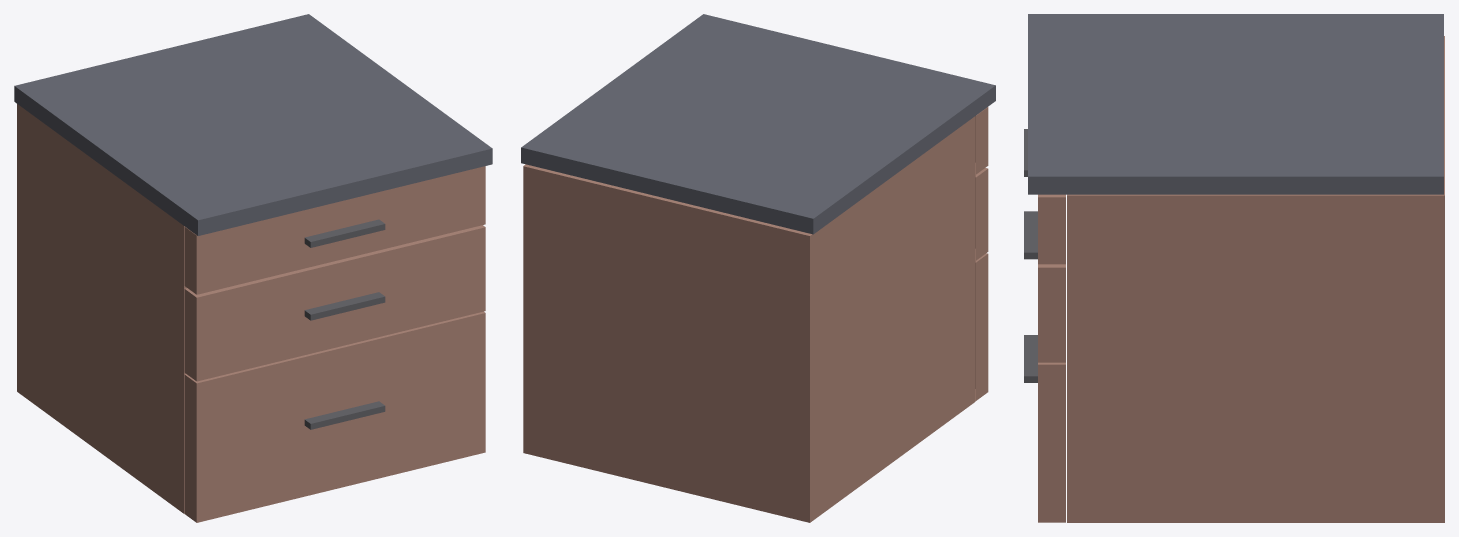
Rendered from Stoleshnica1.fbx.
3 views of the same model, side by side, from view 1: azimuth 30°, elevation 25°; view 2: azimuth 150°, elevation 25°; view 3: azimuth 270°, elevation 25° (orthographic). The views are drawn at different scales.
Visible parts, largest first — view 1: столешница1; view 2: столешница1; view 3: столешница1.
Boxes of the visible parts, bbox=[...] form: столешница1: bbox=[14, 14, 492, 522]; столешница1: bbox=[521, 14, 995, 522]; столешница1: bbox=[1024, 14, 1444, 522].
Size of the model in its own units: 114 by 114 by 125.
